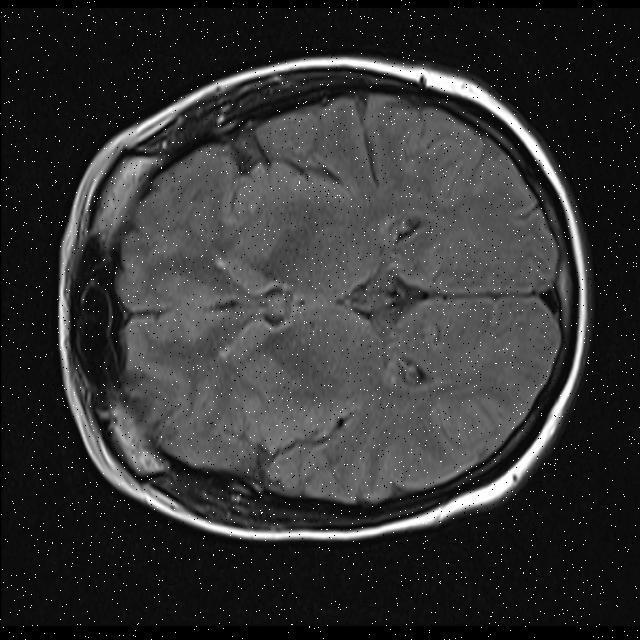No_Tumor: (59, 58, 587, 538)
